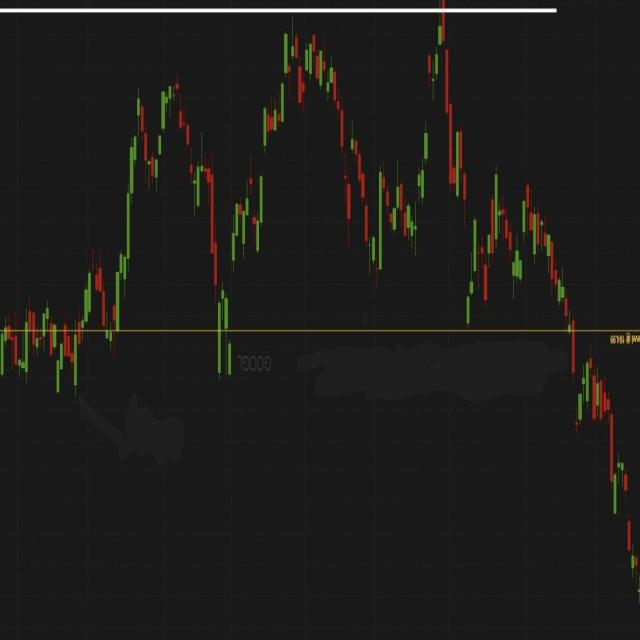Triple-Top: (108, 14, 474, 319)
